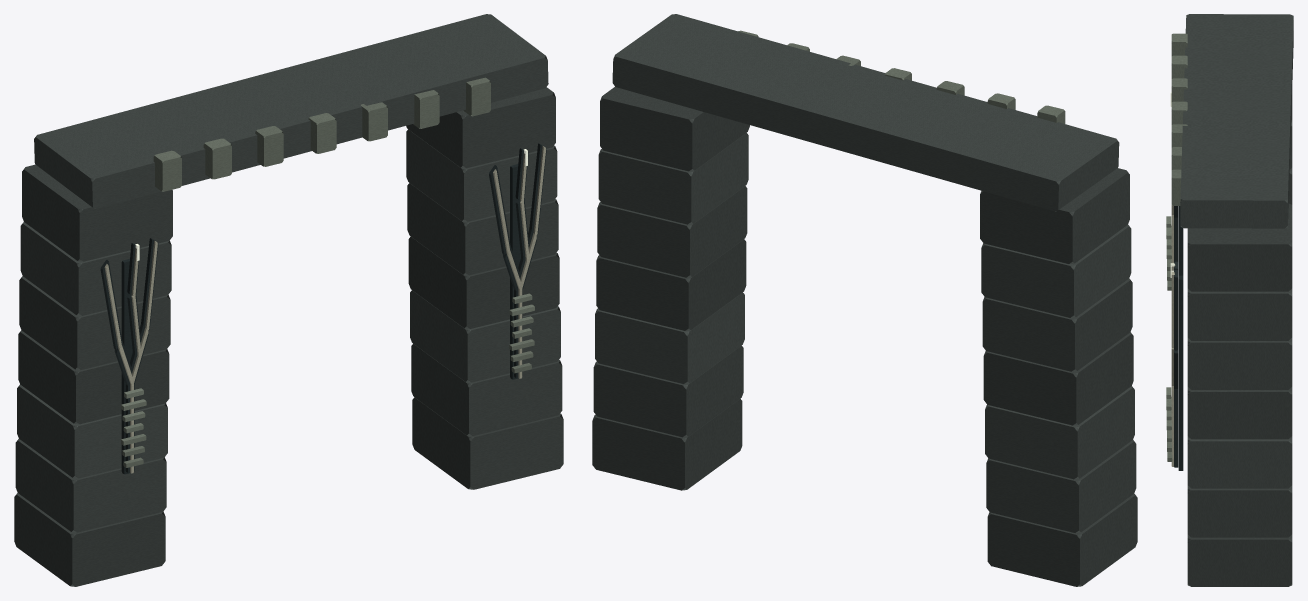
Rendered from cataclysm_forge_threshold.glb.
3 renders of one model, left to right at view 1: azimuth 30°, elevation 25°; view 2: azimuth 150°, elevation 25°; view 3: azimuth 270°, elevation 25°, orthographic. The views are drawn at different scales.
Visible parts, largest first — view 1: cataclysm_forge_threshold; view 2: cataclysm_forge_threshold; view 3: cataclysm_forge_threshold.
Boxes of the visible parts, x1,y1,x2,y2 form: cataclysm_forge_threshold: (14,14,563,586); cataclysm_forge_threshold: (592,14,1137,586); cataclysm_forge_threshold: (1166,14,1293,586).
Bounding box in the file's own units: 3.53 × 2.88 × 0.8775.
3 materials, 3 textured.
